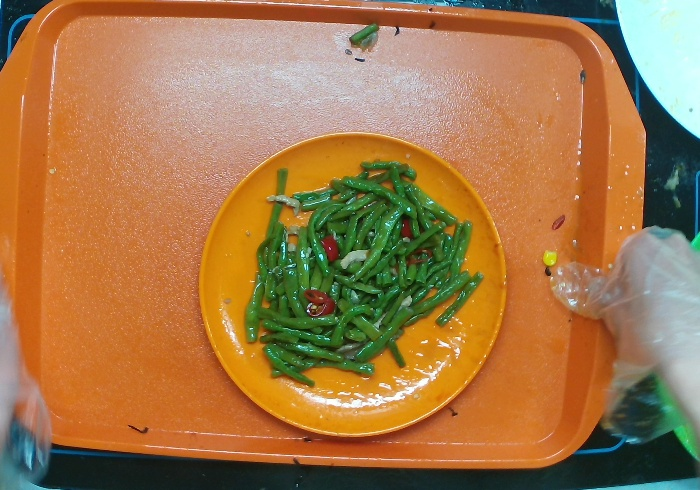HZYJPL-Ju_Huang_Yuan_Pan: (175, 106, 525, 458)
